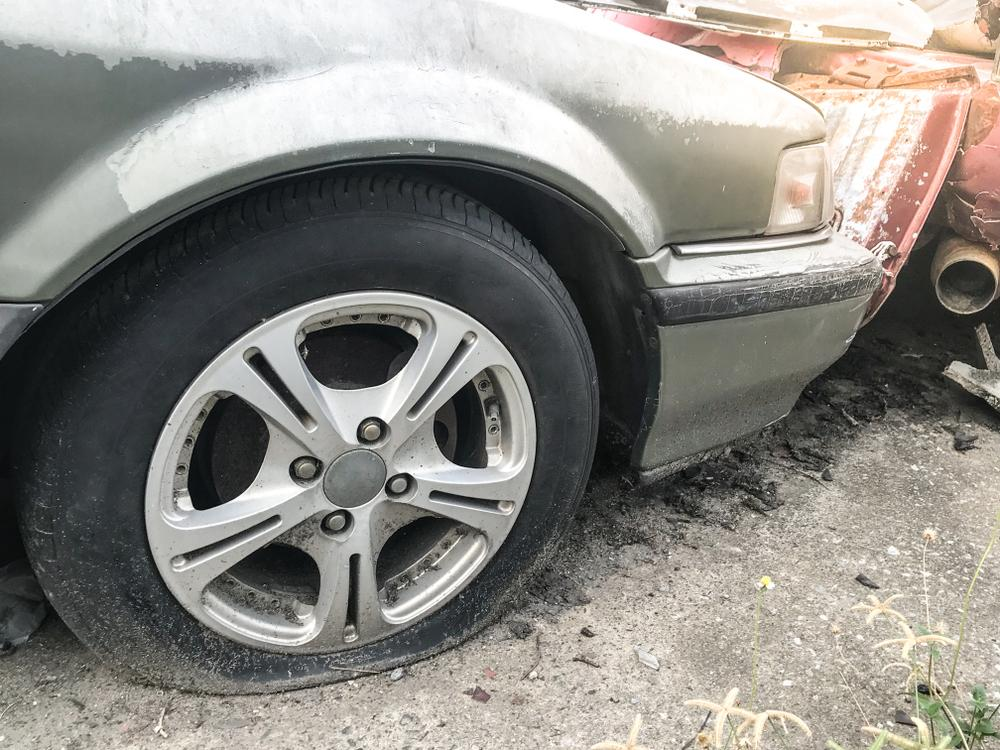tire flat: (15, 175, 601, 699)
